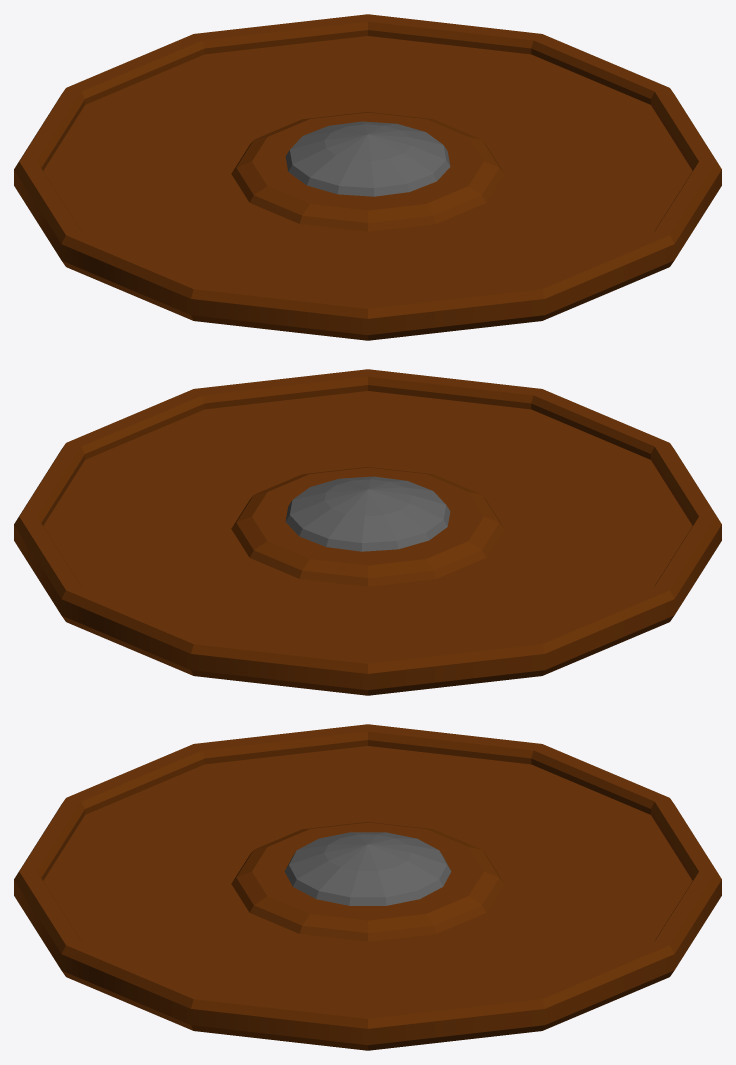
Rendered from woodenroundshield.FBX.
The picture shows the model from 3 angles, top to bottom: view 1: azimuth 30°, elevation 25°; view 2: azimuth 150°, elevation 25°; view 3: azimuth 270°, elevation 25°; orthographic projection.
Parts seen in each view (by area): view 1: Cylinder001; view 2: Cylinder001; view 3: Cylinder001.
Boxes of the visible parts, x1,y1,x2,y2 form: Cylinder001: (14, 14, 721, 340); Cylinder001: (14, 369, 721, 695); Cylinder001: (14, 724, 721, 1050).
Size of the model in its own units: 99.02 by 17.44 by 99.02.
